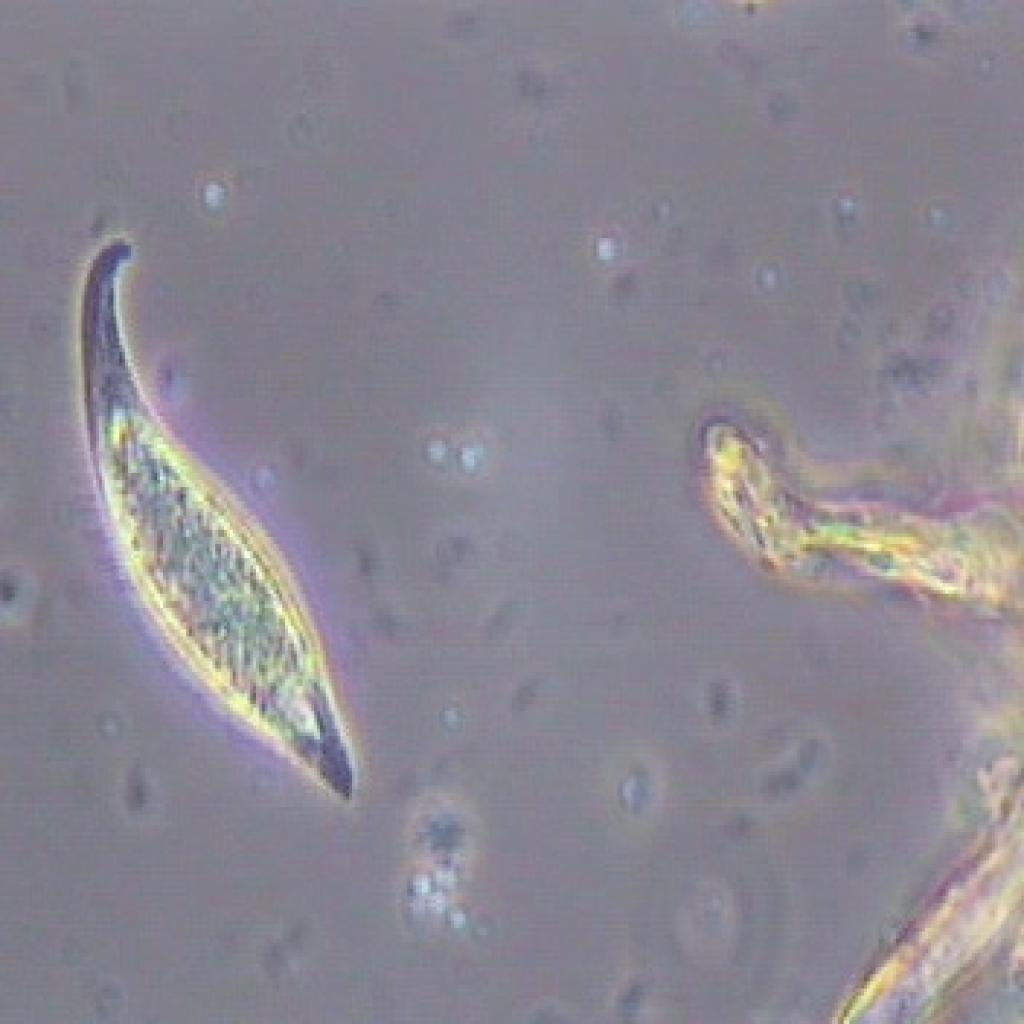Pristina: (32, 220, 375, 825)
